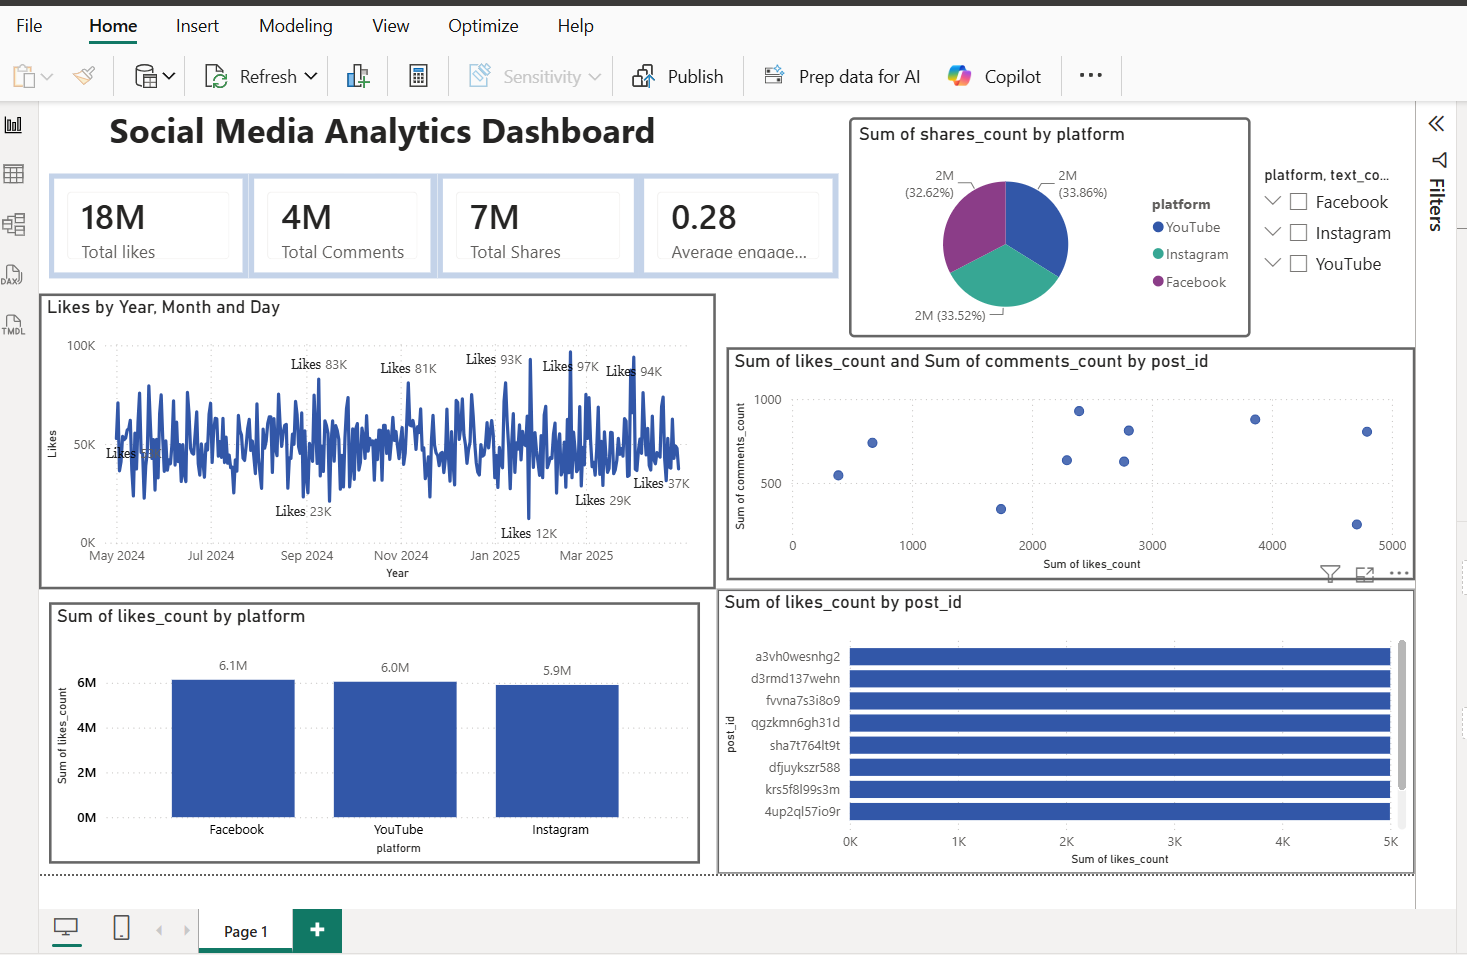

Layout of this report page (visuals, bound fields, positions):
{"tool":"powerbi","page":{"name":"Page 1","canvas":[1280,720],"ordinal":0},"visuals":[{"type":"cardVisual","fields":{"Data":["Sum(Social Media Engagement Dataset.likes_count)"]},"box":[9.8,67.3,185.9,97.8],"z":0},{"type":"cardVisual","fields":{"Data":["Sum(Social Media Engagement Dataset.comments_count)"]},"box":[195.7,67.3,174.9,97.8],"z":1000},{"type":"cardVisual","fields":{"Data":["Sum(Social Media Engagement Dataset.shares_count)"]},"box":[370.5,67.3,187.1,97.8],"z":2000},{"type":"cardVisual","fields":{"Data":["Avg(Social Media Engagement Dataset.engagement_rate)"]},"box":[557.6,67.3,185.9,97.8],"z":3000},{"type":"lineChart","fields":{"Y":["Sum(Social Media Engagement Dataset.likes_count)"],"Category":["Social Media Engagement Dataset.timestamp.Variation.Date Hierarchy.Year","Social Media Engagement Dataset.timestamp.Variation.Date Hierarchy.Month","Social Media Engagement Dataset.timestamp.Variation.Date Hierarchy.Day"]},"box":[0,178.5,629.8,275.1],"z":4000},{"type":"clusteredColumnChart","fields":{"Category":["Social Media Engagement Dataset.platform"],"Y":["Sum(Social Media Engagement Dataset.likes_count)"]},"box":[9.8,465.9,605.3,243.3],"z":5000},{"type":"clusteredBarChart","fields":{"Category":["Social Media Engagement Dataset.post_id"],"Y":["Sum(Social Media Engagement Dataset.likes_count)"]},"box":[629.8,453.7,650.5,266.6],"z":6000},{"type":"pieChart","fields":{"Category":["Social Media Engagement Dataset.platform"],"Y":["Sum(Social Media Engagement Dataset.shares_count)"]},"box":[753.5,15.1,373.3,204.7],"z":7000},{"type":"scatterChart","fields":{"X":["Sum(Social Media Engagement Dataset.likes_count)"],"Y":["Sum(Social Media Engagement Dataset.comments_count)"],"Category":["Social Media Engagement Dataset.post_id"]},"box":[639.5,228.7,640.8,216.4],"z":8000},{"type":"slicer","fields":{"Values":["Social Media Engagement Dataset.platform","Social Media Engagement Dataset.text_content","Social Media Engagement Dataset.timestamp"]},"box":[1126.7,54.7,153.5,124.4],"z":9000},{"type":"textbox","box":[0,0,639.5,55],"z":10000}]}

Visuals, with their boxes on the page's 1280x720 design canvas (x1, y1, x2, y2). These are canvas units, not pixel positions in the 1467x955 screenshot, which may show the page scaled, cropped or inside an application window:
cardVisual - Sum(Social Media Engagement Dataset.likes_count): region(10, 67, 196, 165)
cardVisual - Sum(Social Media Engagement Dataset.comments_count): region(196, 67, 371, 165)
cardVisual - Sum(Social Media Engagement Dataset.shares_count): region(370, 67, 558, 165)
cardVisual - Avg(Social Media Engagement Dataset.engagement_rate): region(558, 67, 744, 165)
lineChart - Sum(Social Media Engagement Dataset.likes_count) x Social Media Engagement Dataset.timestamp.Variation.Date Hierarchy.Year: region(0, 178, 630, 454)
clusteredColumnChart - Social Media Engagement Dataset.platform x Sum(Social Media Engagement Dataset.likes_count): region(10, 466, 615, 709)
clusteredBarChart - Social Media Engagement Dataset.post_id x Sum(Social Media Engagement Dataset.likes_count): region(630, 454, 1280, 720)
pieChart - Social Media Engagement Dataset.platform x Sum(Social Media Engagement Dataset.shares_count): region(754, 15, 1127, 220)
scatterChart - Sum(Social Media Engagement Dataset.likes_count) x Sum(Social Media Engagement Dataset.comments_count): region(640, 229, 1280, 445)
slicer - Social Media Engagement Dataset.platform x Social Media Engagement Dataset.text_content: region(1127, 55, 1280, 179)
textbox: region(0, 0, 640, 55)
